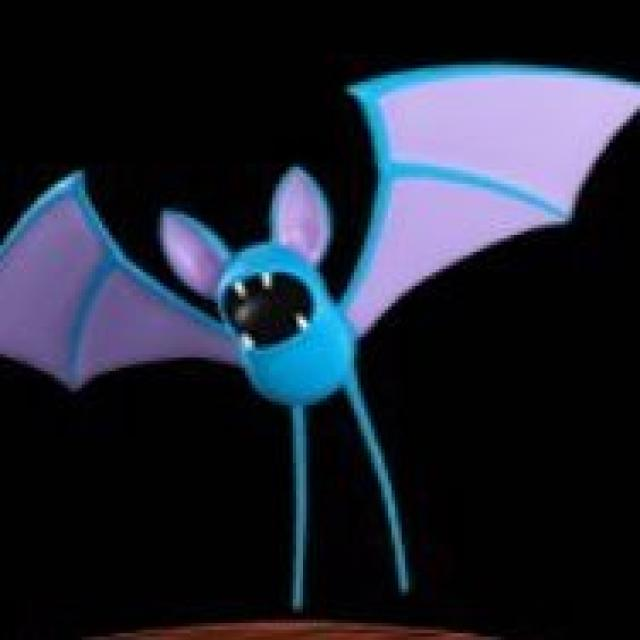Zubat: (77, 162, 495, 460)
